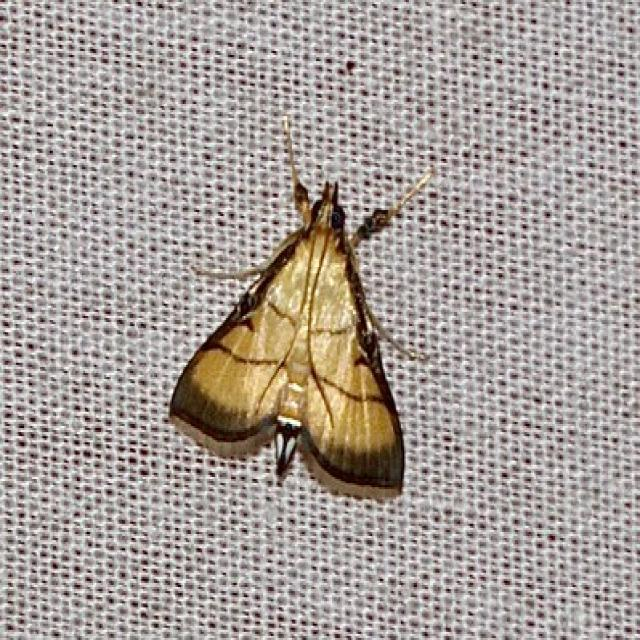rice leaf roller -penggulung daun padi-: (164, 112, 436, 504)
